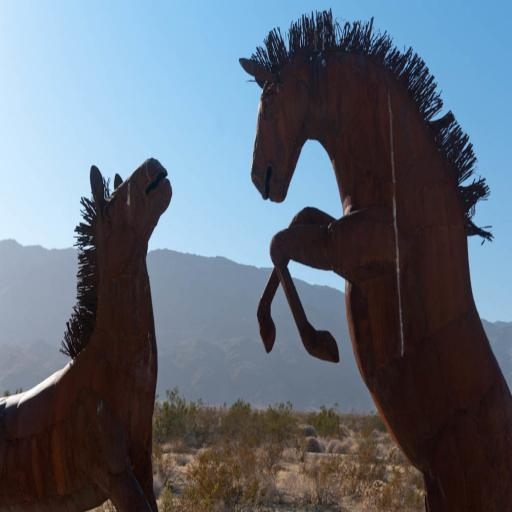horse: (237, 5, 512, 510), (0, 156, 172, 512)
